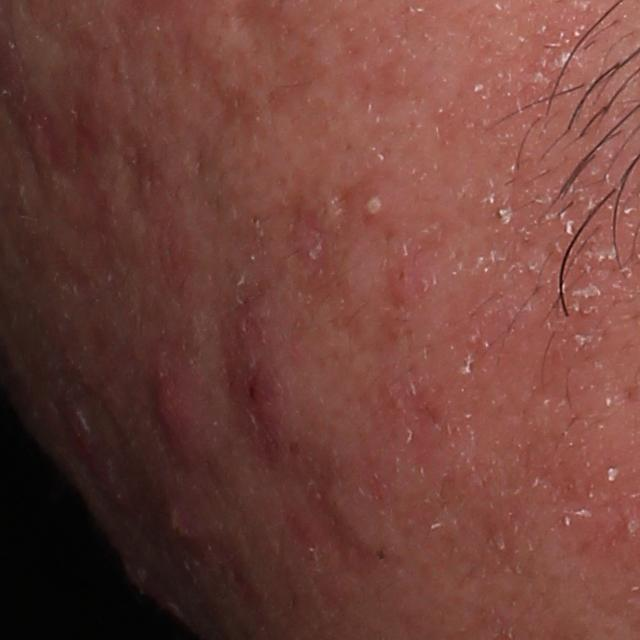papule: (228, 354, 291, 439), (149, 375, 197, 443)
pustule: (356, 179, 401, 230), (164, 499, 204, 547)
